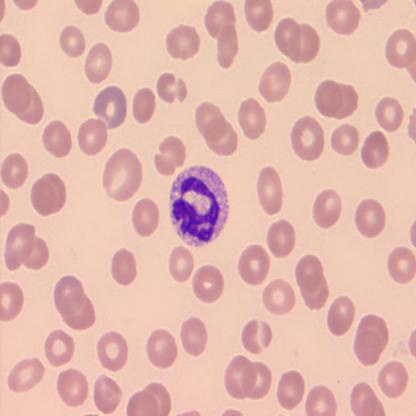Segmented neutrophil: (166, 164, 232, 249)
